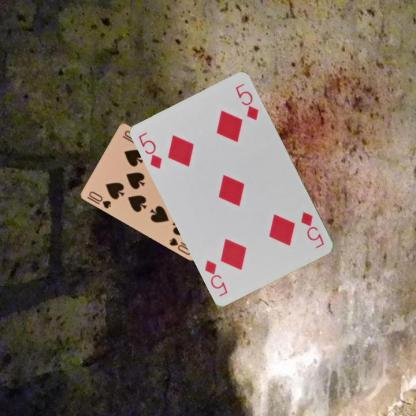10s: (86, 188, 112, 210)
5d: (298, 209, 326, 250), (136, 130, 164, 170)
